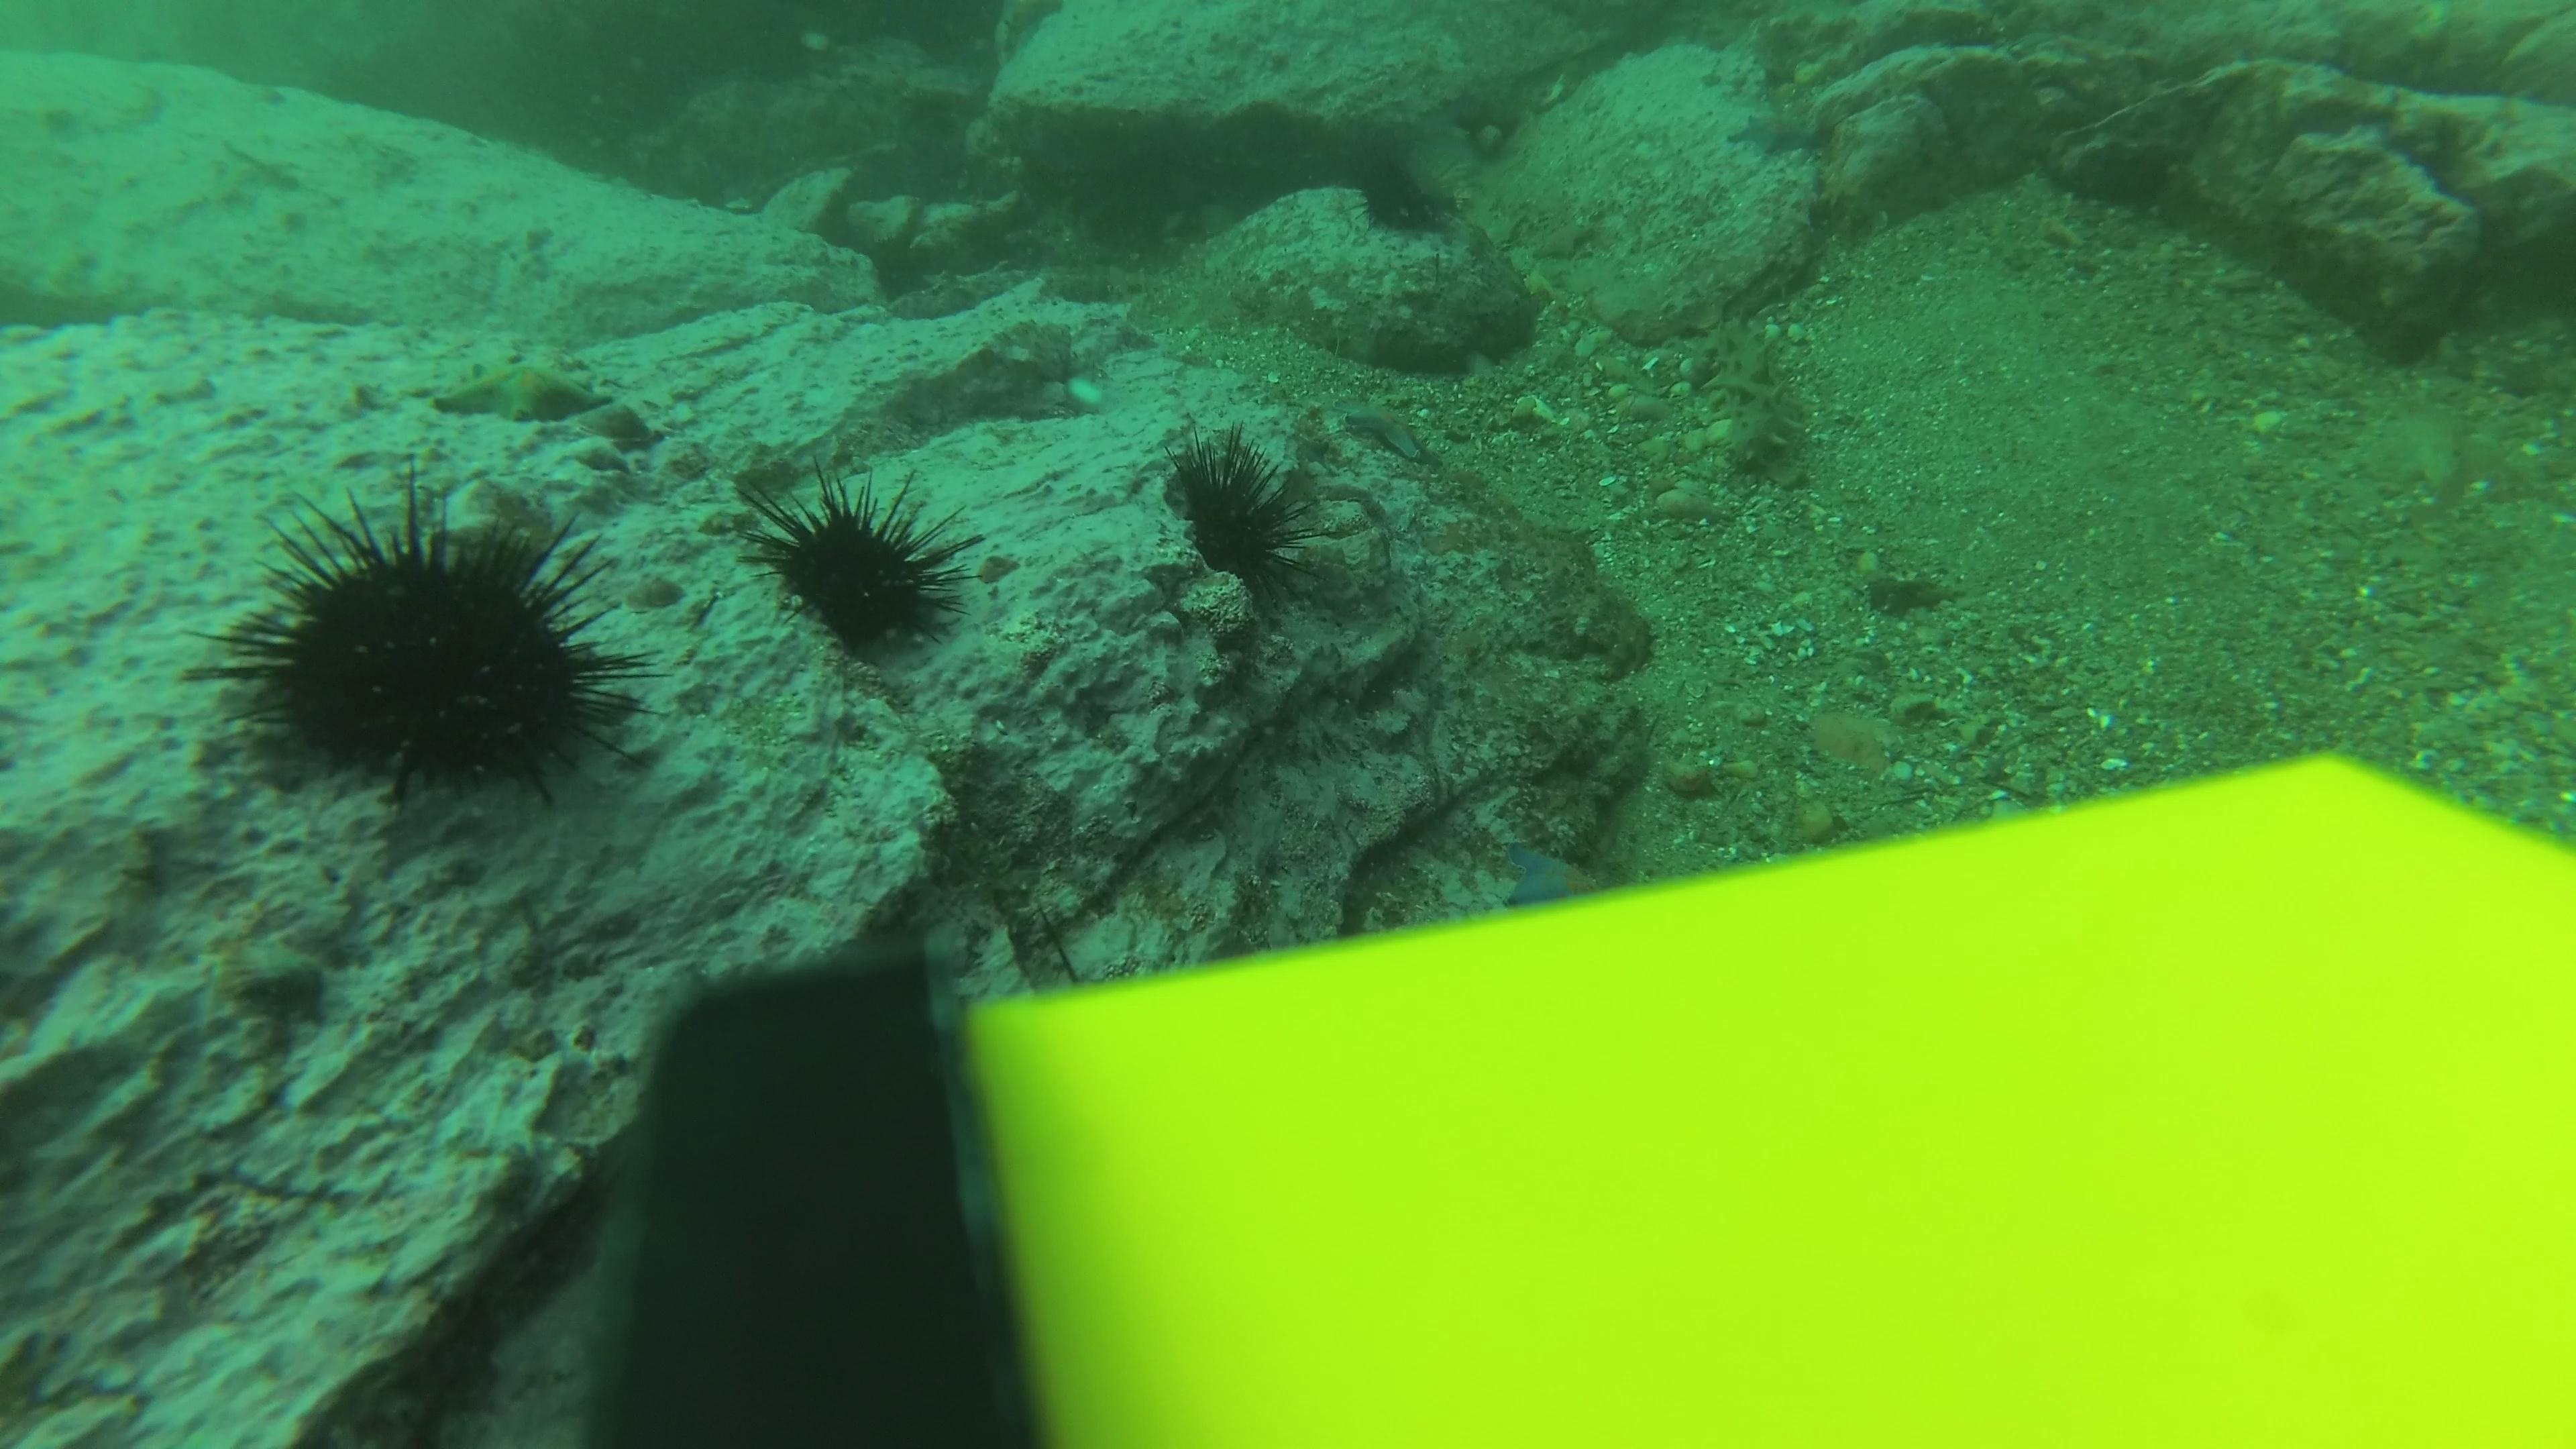echinus: (214, 485, 646, 809), (743, 467, 975, 663), (1154, 426, 1323, 600), (1345, 149, 1458, 241)
holothurian: (1693, 308, 1819, 499)
starfish: (425, 356, 626, 428), (1491, 833, 1599, 908), (1334, 398, 1437, 464), (1725, 103, 1829, 163)
